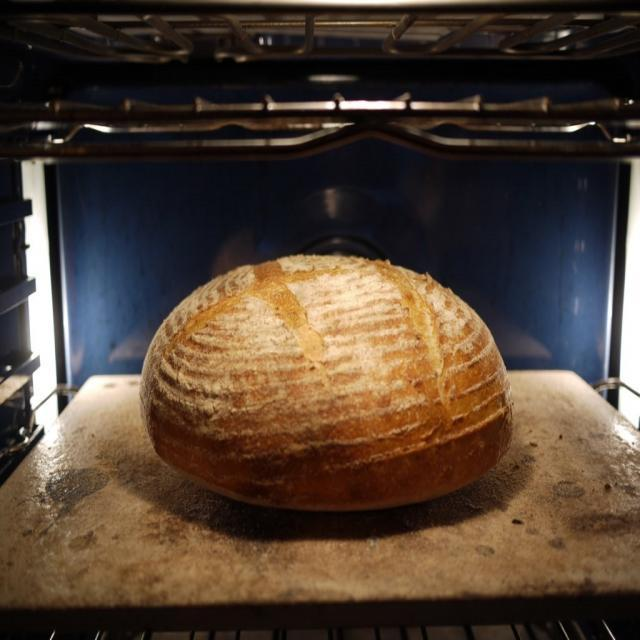Bread: (152, 218, 508, 539)
